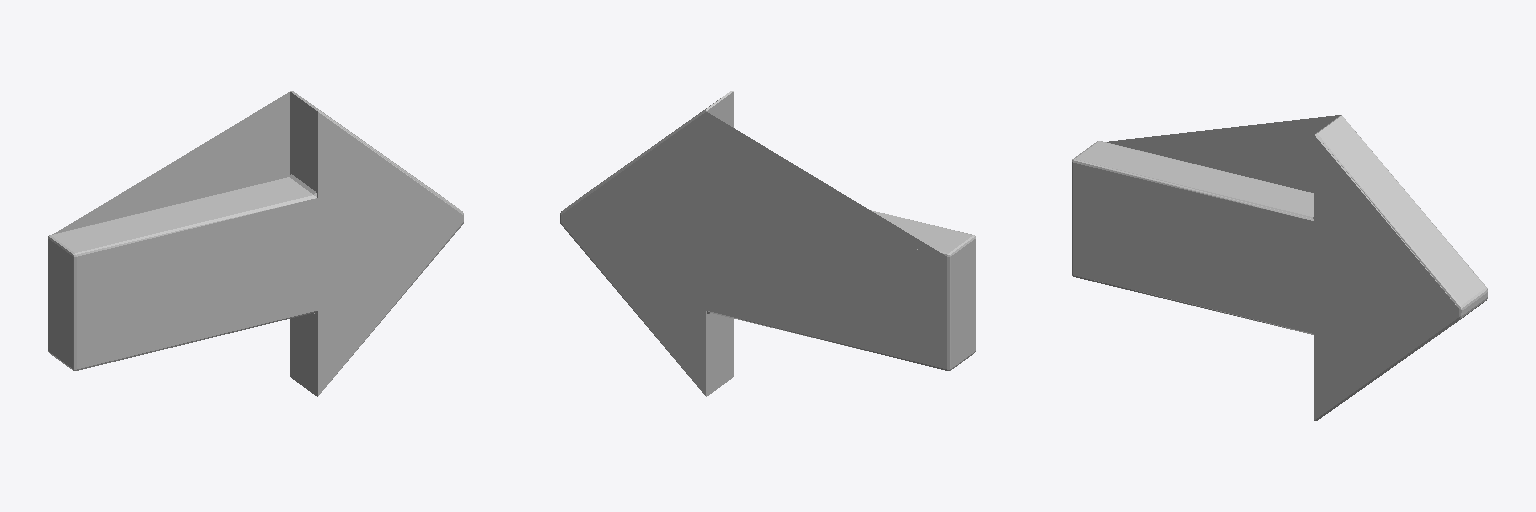
The model's file is rightarrow.obj.
3 views of the same model, side by side, from view 1: azimuth 30°, elevation 25°; view 2: azimuth 150°, elevation 25°; view 3: azimuth 330°, elevation 25° (orthographic).
Visible parts, largest first — view 1: Box01.001; view 2: Box01.001; view 3: Box01.001.
Boxes of the visible parts, <box> form: Box01.001: <box>48,91,463,396</box>; Box01.001: <box>560,91,975,396</box>; Box01.001: <box>1072,115,1487,420</box>.
Bounding box in the file's own units: 50.71 × 35.61 × 6.16.